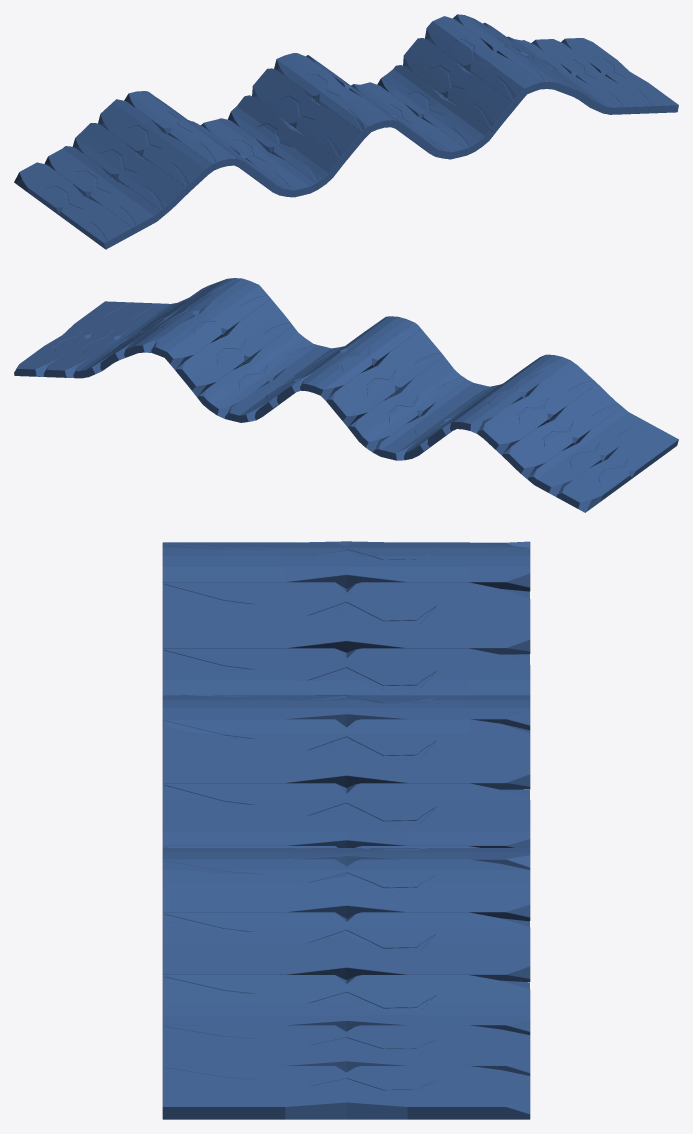
Rendered from Wooden Platform1.fbx.
3 views of the same model, one above another, from view 1: azimuth 30°, elevation 25°; view 2: azimuth 150°, elevation 25°; view 3: azimuth 270°, elevation 25° (orthographic). The views are drawn at different scales.
Visible parts, largest first — view 1: Cube.008; view 2: Cube.008; view 3: Cube.008.
Boxes of the visible parts, <box> form: Cube.008: <box>14,14,678,249</box>; Cube.008: <box>14,278,678,512</box>; Cube.008: <box>162,541,530,1119</box>.
Size of the model in its own units: 3166 by 336 by 877.
